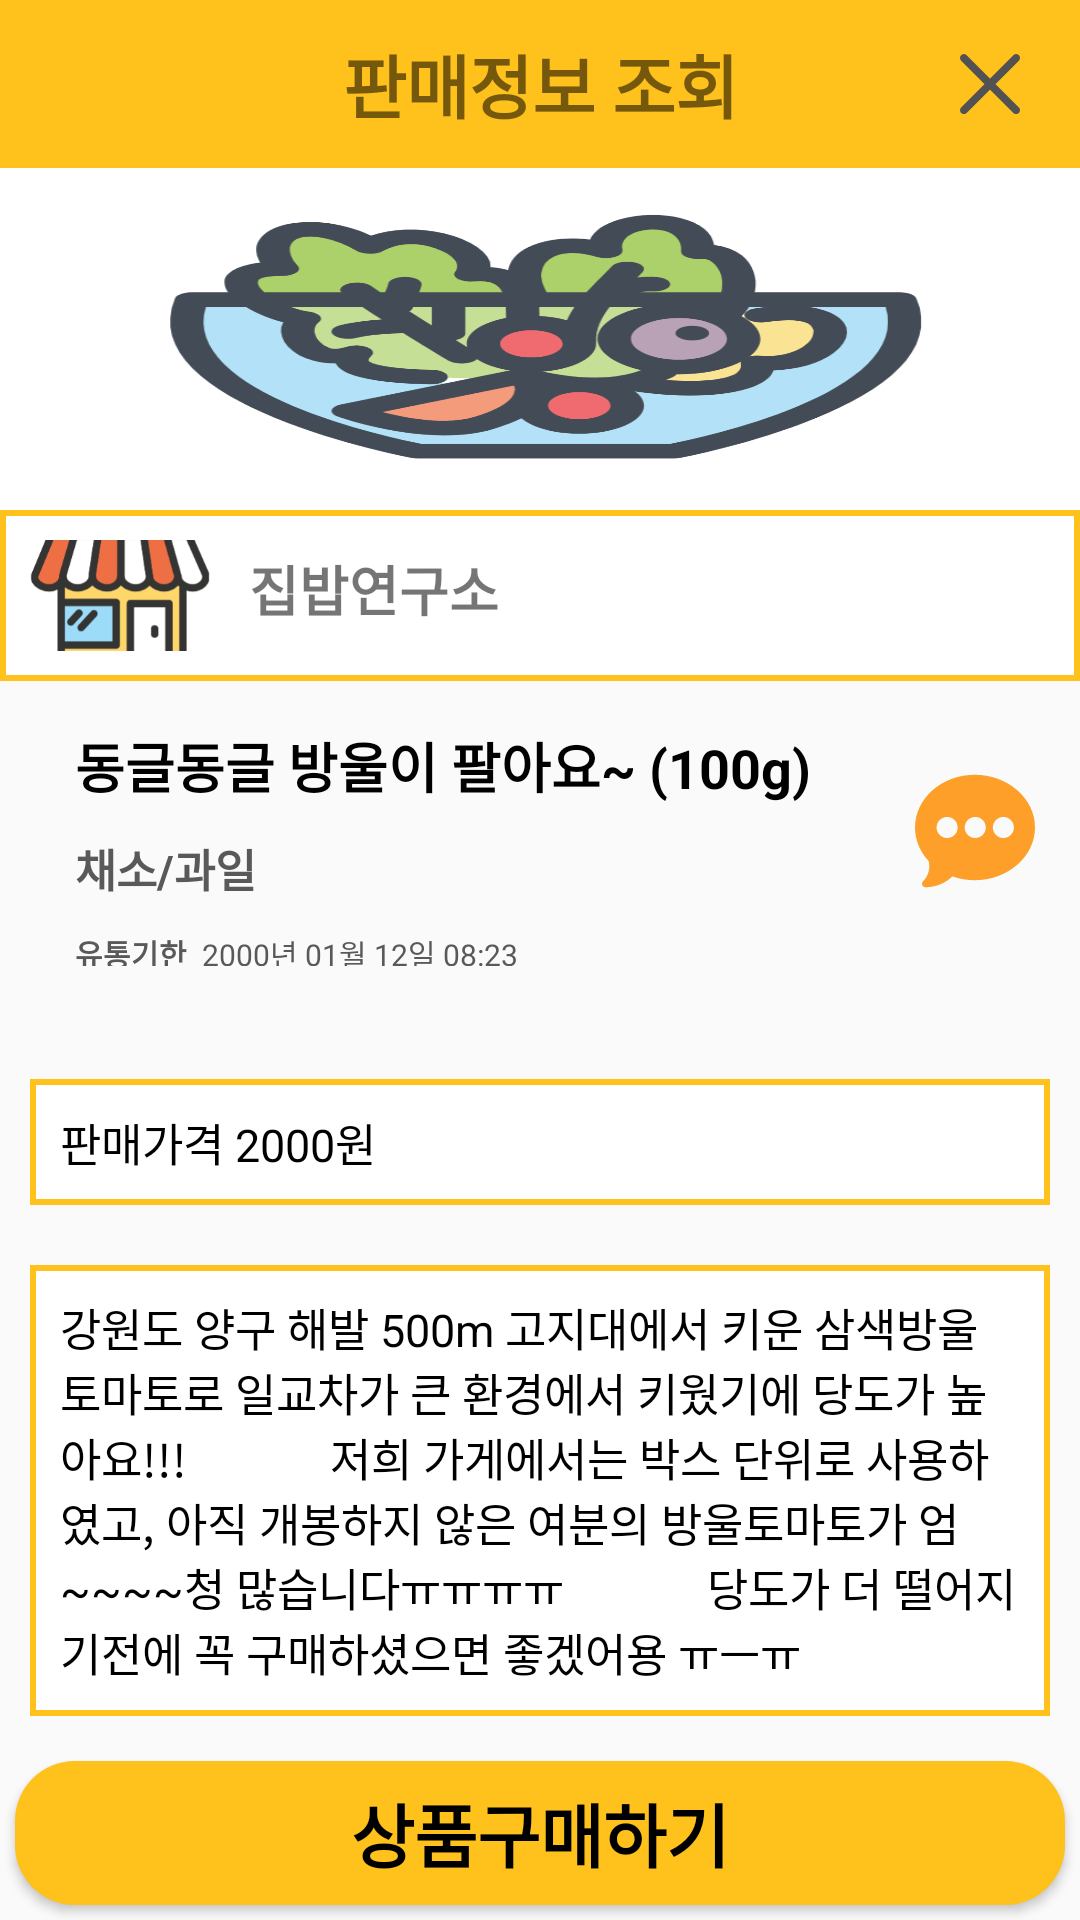

Icon bounding boxes for this 1080px×1920px phone screenshot, format [left=x1, top=y1, right=x2, bottom=y2]:
chatting: [left=915, top=774, right=1035, bottom=888]
close: [left=960, top=54, right=1020, bottom=114]
store: [left=31, top=540, right=210, bottom=651]
